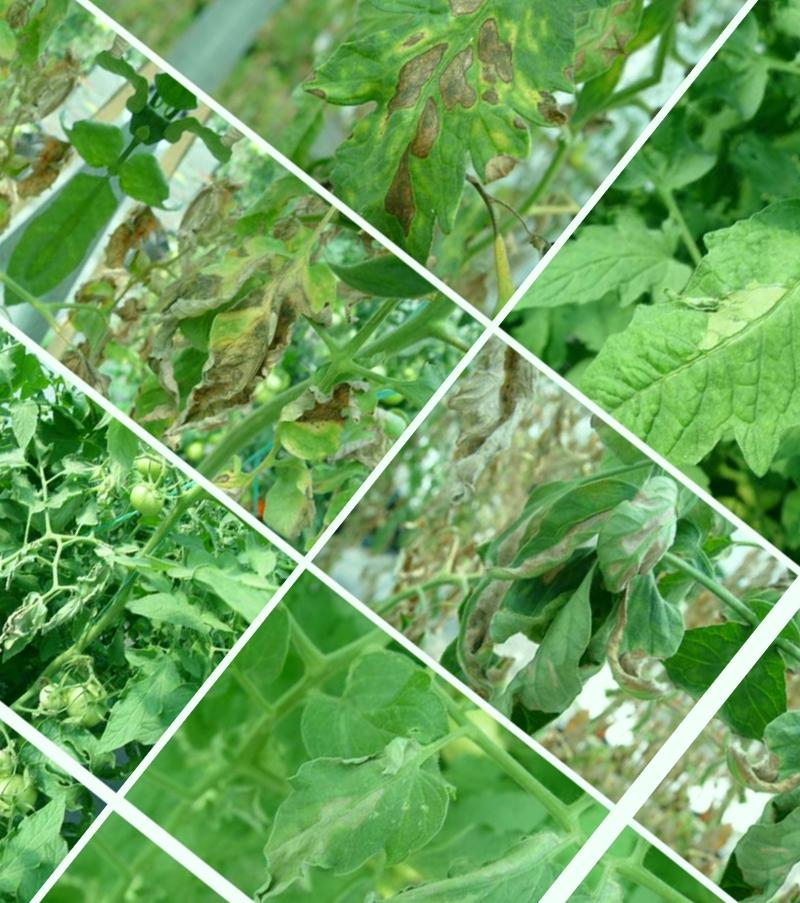Tomato leaf bacterial spot: (252, 0, 615, 269)
